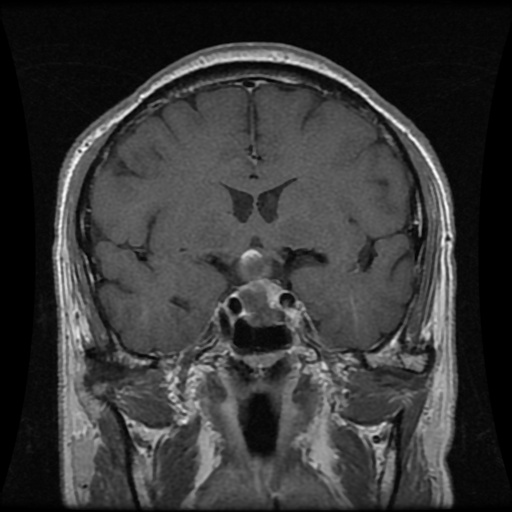pituitary: (236, 245, 272, 282)
